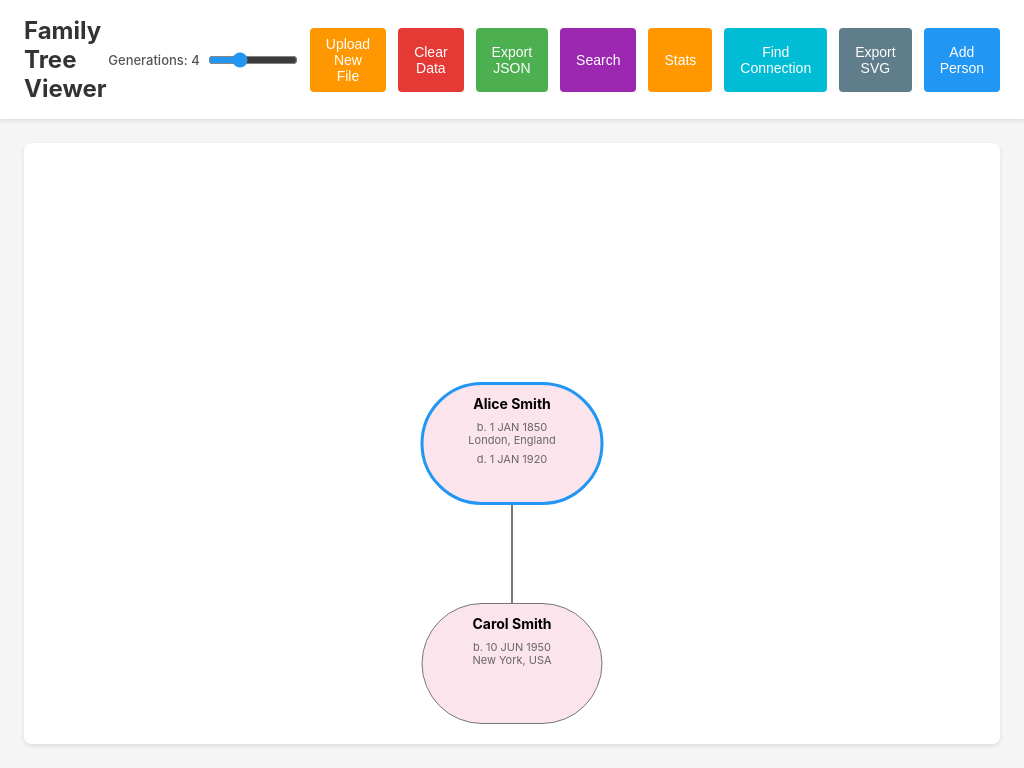
Test case: App (component) › search modal › opens when search button is clicked
Click the button with class "search-btn" at (598, 60), box 560,28 -> 636,92
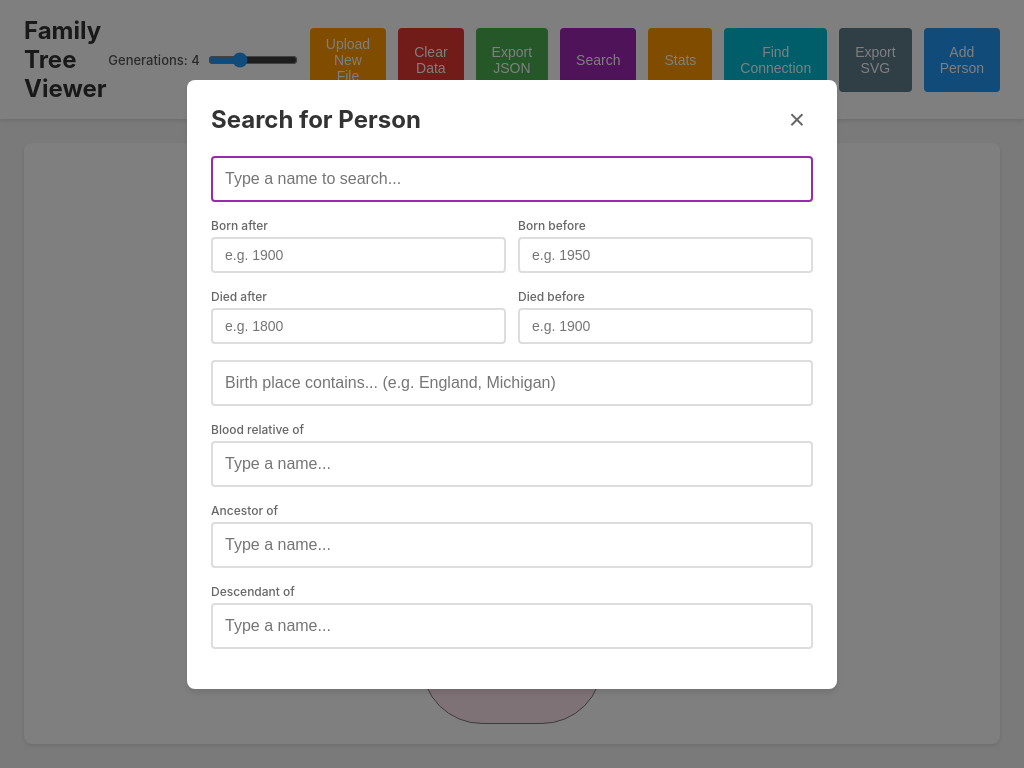
Check: the element with class "search-modal" is shown, box 187,80 -> 837,688
